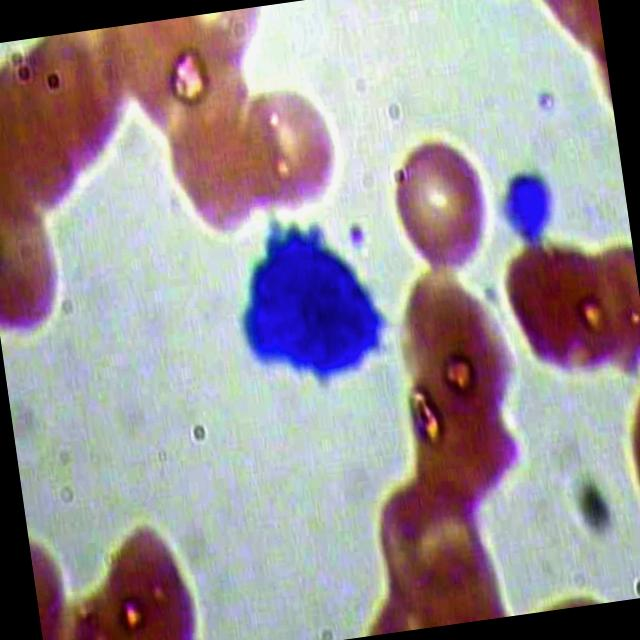Platelets: (483, 145, 560, 252)
RBC: (369, 122, 504, 284), (489, 225, 623, 388), (226, 74, 360, 236), (77, 499, 213, 640)
WBC: (218, 187, 404, 400)
